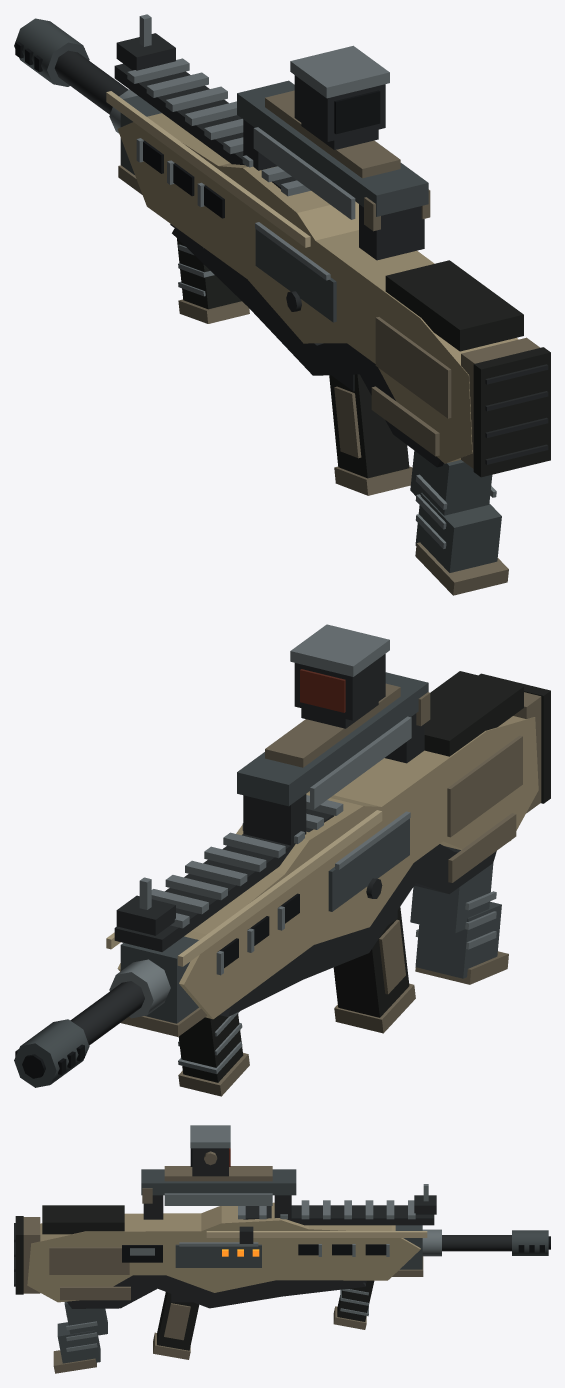
3 renders of one model, top to bottom at view 1: azimuth 30°, elevation 25°; view 2: azimuth 150°, elevation 25°; view 3: azimuth 270°, elevation 25°, orthographic. The views are drawn at different scales.
Visible parts, largest first — view 1: Merged_material (×7), Continuous armored shell, Inset lower chassis; view 2: Merged_material (×7), Continuous armored shell, Inset lower chassis, Optic front glass; view 3: Merged_material (×7), Continuous armored shell, Inset lower chassis.
Part boxes in pixels (x1,y1,x2,y2): Merged_material (×7): [14, 14, 550, 595]; Continuous armored shell: [117, 113, 518, 463]; Inset lower chassis: [172, 228, 443, 467]; Merged_material (×7): [14, 624, 550, 1096]; Continuous armored shell: [117, 716, 538, 1019]; Inset lower chassis: [220, 844, 496, 1016]; Optic front glass: [300, 669, 345, 712]; Merged_material (×7): [14, 1125, 550, 1373]; Continuous armored shell: [27, 1202, 420, 1302]; Inset lower chassis: [67, 1275, 365, 1308].
Size of the model in its own units: 0.113 by 0.4705 by 0.9845.
